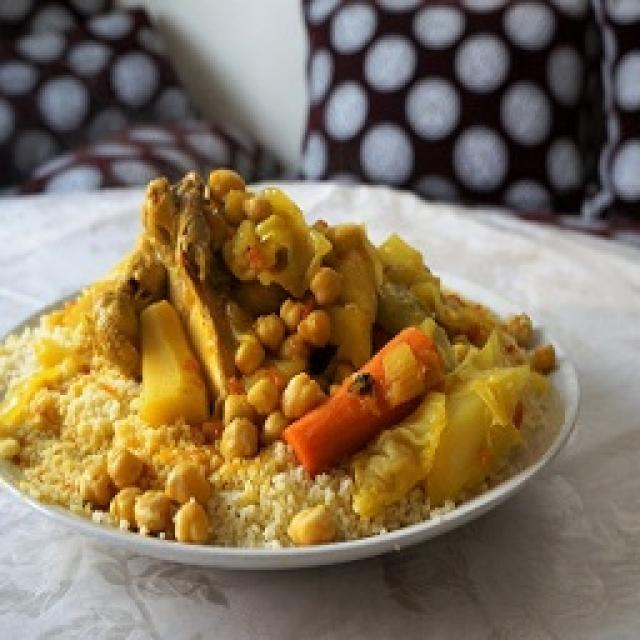Couscous: (0, 170, 555, 546)
